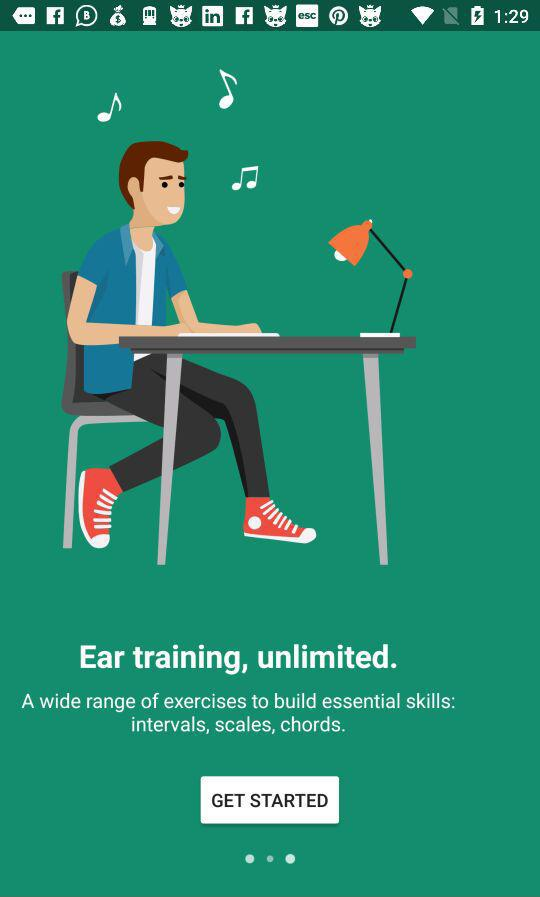Image: (60, 67, 421, 566)
PageIndicator: (244, 853, 297, 866)
Text: (21, 691, 456, 736), (80, 641, 400, 677)
TextButton: (201, 776, 340, 825)
UpperTaskBar: (1, 1, 540, 33)
